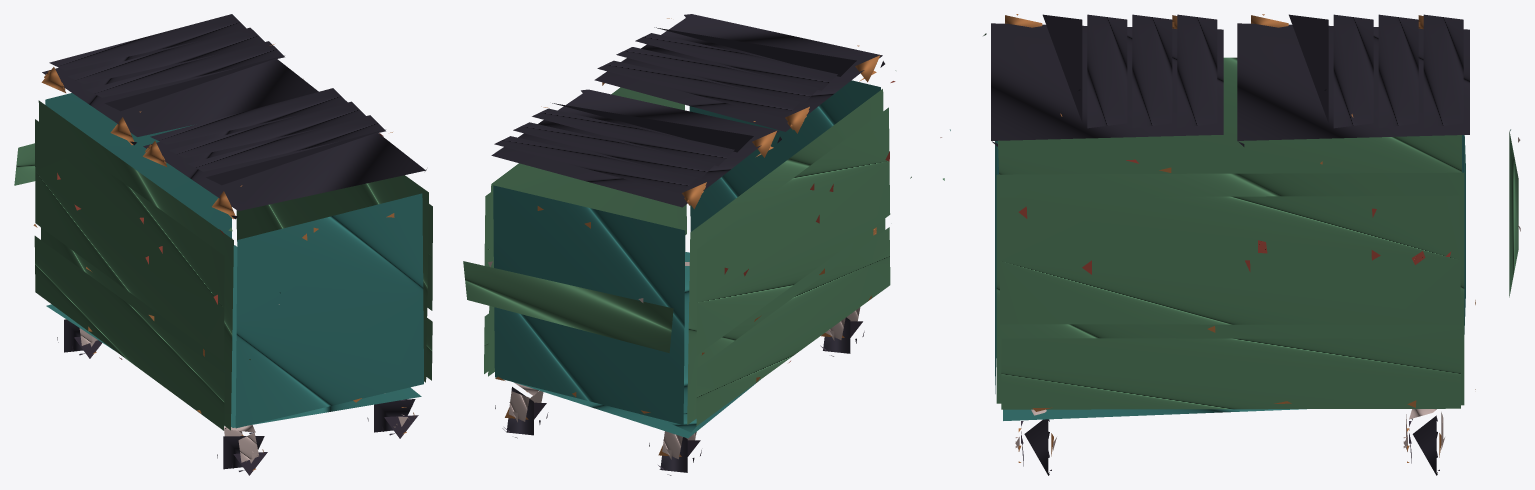
3 views of the same model, side by side, from view 1: azimuth 30°, elevation 25°; view 2: azimuth 150°, elevation 25°; view 3: azimuth 270°, elevation 25° (orthographic). The views are drawn at different scales.
Parts seen in each view (by area): view 1: body, lidL, lidR, wheelFL, wheelRL, object 1, wheelRR; view 2: body, lidR, lidL, object 1, wheelFR, wheelRR, wheelRL; view 3: body, lidR, lidL, wheelFR, wheelFL.
Part boxes in pixels (x1=…): body: x1=14, y1=79, x2=432, y2=430; lidL: x1=143, y1=88, x2=426, y2=219; lidR: x1=41, y1=14, x2=318, y2=145; wheelFL: x1=367, y1=399, x2=418, y2=438; wheelRL: x1=217, y1=432, x2=267, y2=475; object 1: x1=65, y1=319, x2=395, y2=462; wheelRR: x1=57, y1=319, x2=101, y2=358; body: x1=463, y1=70, x2=911, y2=438; lidR: x1=491, y1=89, x2=781, y2=209; lidL: x1=594, y1=14, x2=884, y2=133; object 1: x1=508, y1=262, x2=860, y2=459; wheelFR: x1=495, y1=387, x2=548, y2=438; wheelRR: x1=649, y1=437, x2=701, y2=475; wheelRL: x1=820, y1=317, x2=864, y2=356; body: x1=940, y1=33, x2=1520, y2=420; lidR: x1=1237, y1=14, x2=1469, y2=146; lidL: x1=991, y1=14, x2=1223, y2=146; wheelFR: x1=1403, y1=415, x2=1444, y2=475; wheelFL: x1=1015, y1=419, x2=1056, y2=475.
Bounding box in the file's own units: 1.37 × 1.87 × 2.63.
